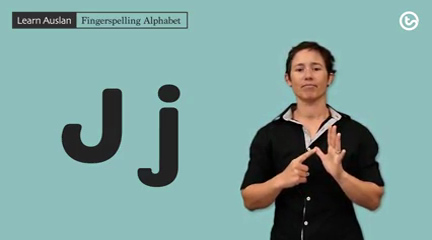J: (275, 120, 352, 197)
